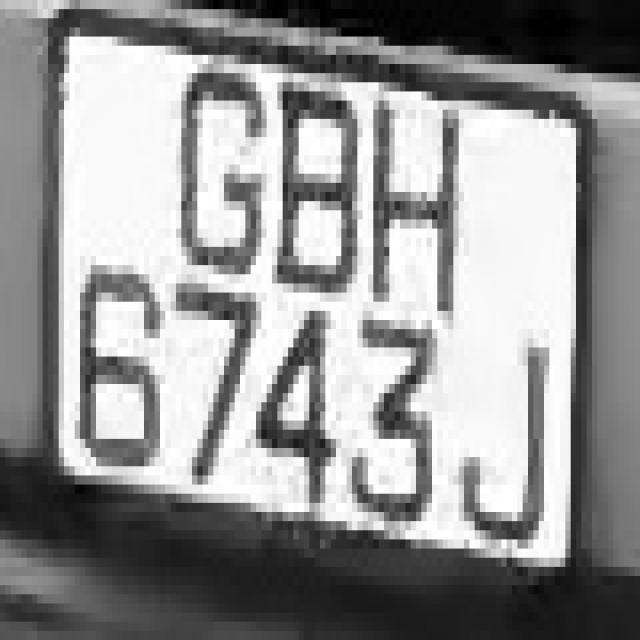3: (347, 265, 432, 576)
4: (246, 265, 342, 549)
6: (70, 210, 166, 503)
7: (160, 228, 256, 548)
B: (272, 46, 363, 347)
G: (165, 37, 272, 320)
H: (362, 73, 474, 320)
J: (453, 293, 560, 585)
